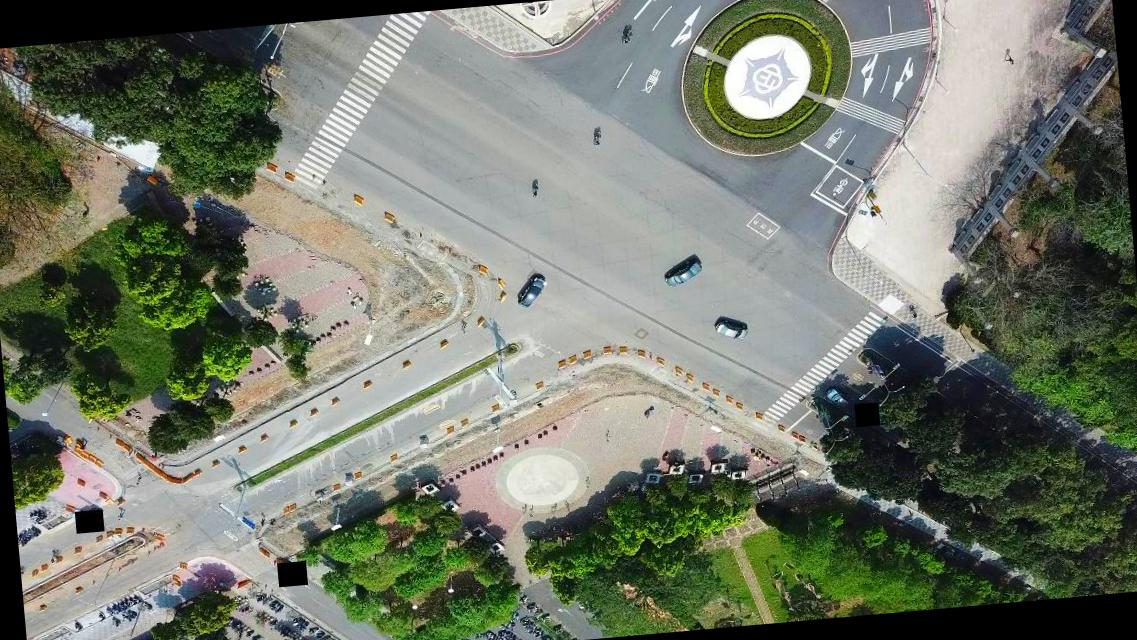vehicle: (663, 258, 704, 288), (516, 274, 547, 308), (714, 318, 748, 342), (824, 386, 847, 410)
